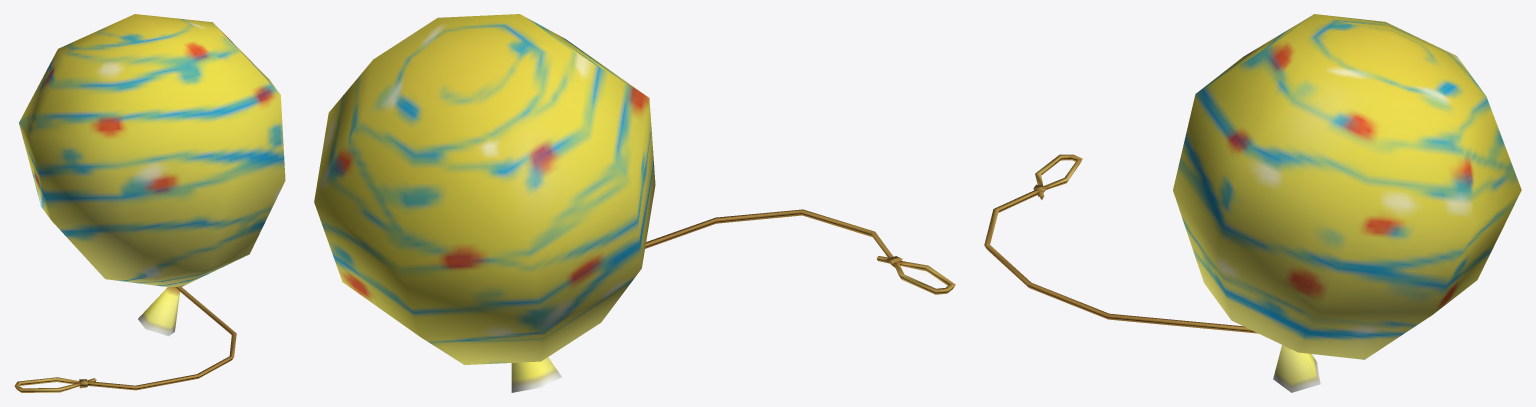
File: jsf_WaterBalloon_06_c.fbx
The picture shows the model from 3 angles, left to right: view 1: azimuth 30°, elevation 25°; view 2: azimuth 150°, elevation 25°; view 3: azimuth 270°, elevation 25°; orthographic projection. The views are drawn at different scales.
Visible parts, largest first — view 1: jsf_WaterBalloon_06_c; view 2: jsf_WaterBalloon_06_c; view 3: jsf_WaterBalloon_06_c.
Boxes of the visible parts, box(x1,y1,x2,y2) form: jsf_WaterBalloon_06_c: box(14, 14, 285, 392); jsf_WaterBalloon_06_c: box(314, 14, 955, 392); jsf_WaterBalloon_06_c: box(984, 14, 1521, 392).
Bounding box in the file's own units: 16.89 × 12.55 × 17.11.
